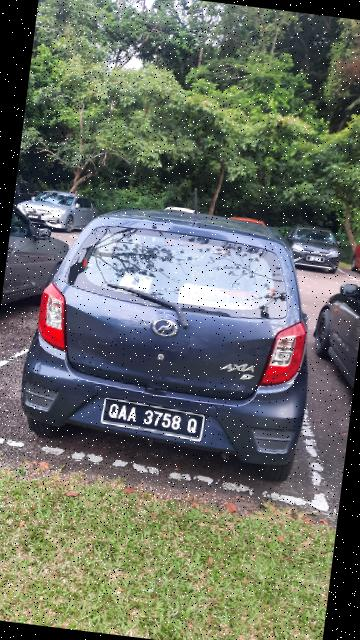License_Plate: (95, 388, 213, 444)
car: (18, 189, 328, 486)
